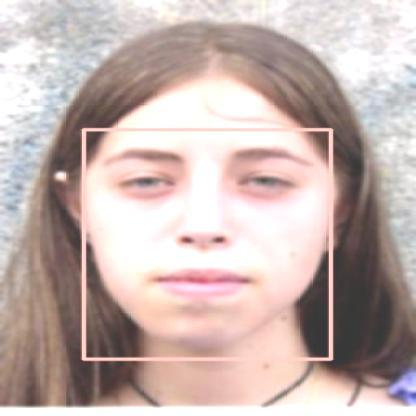without_mask: (83, 129, 330, 359)
